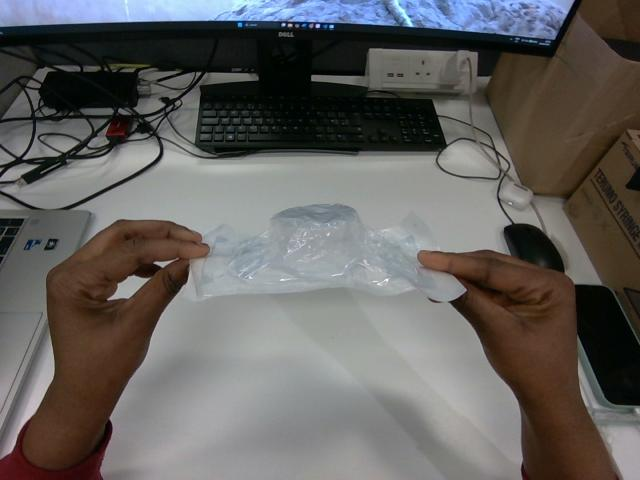gallipot: (185, 204, 464, 301)
